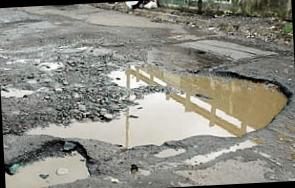pothole: (7, 47, 295, 156), (7, 135, 100, 188)
